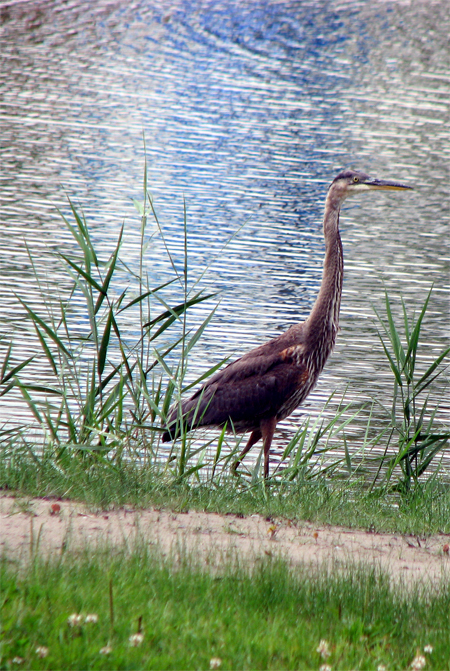heron: (166, 160, 423, 490)
